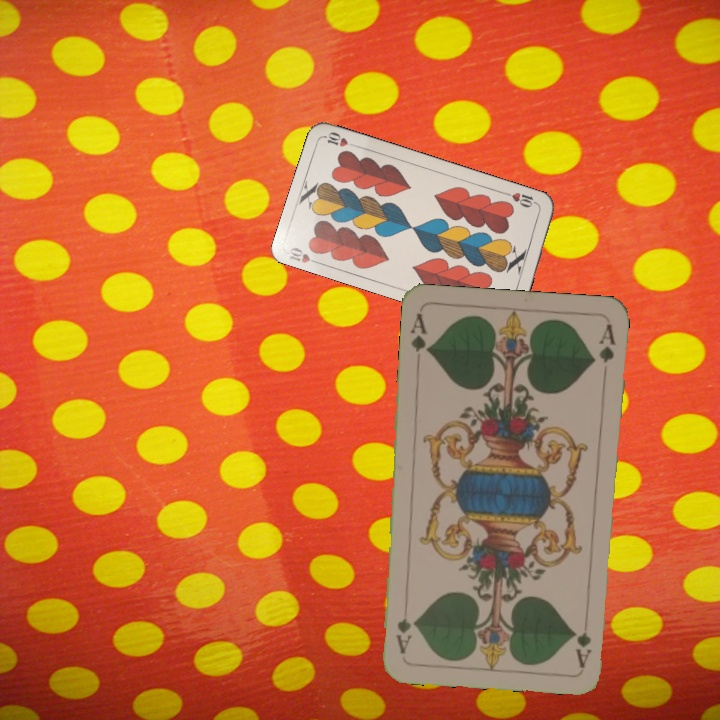GA: (572, 610, 594, 669), (407, 309, 433, 357)
H10: (285, 242, 324, 267), (502, 188, 541, 210)
